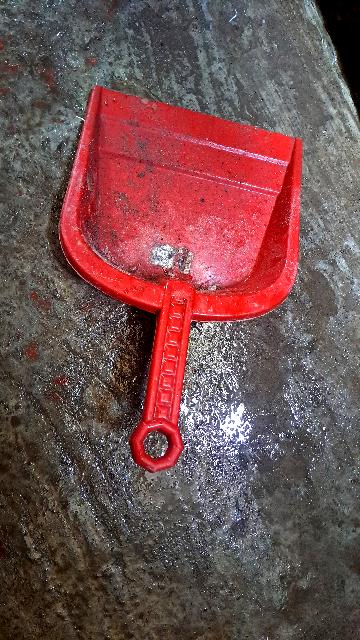hardplastic: (74, 78, 298, 327)
